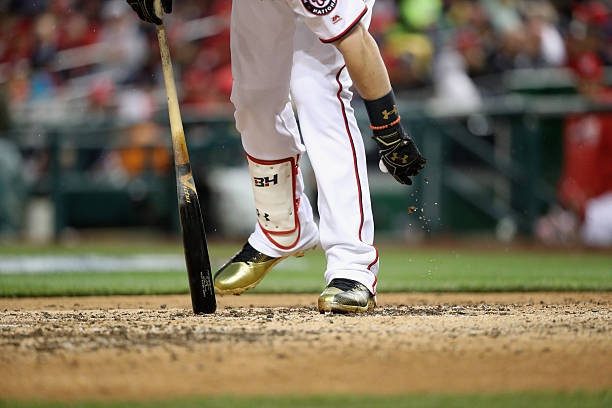bita: (152, 4, 218, 315)
